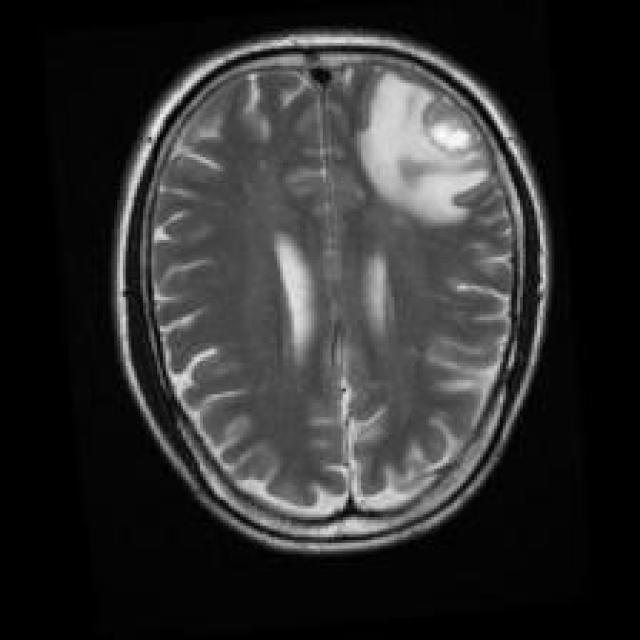Tumor: (352, 63, 492, 231)
